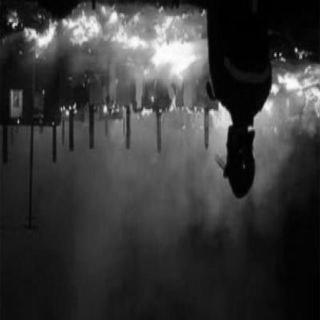Fire: (6, 4, 206, 108)
